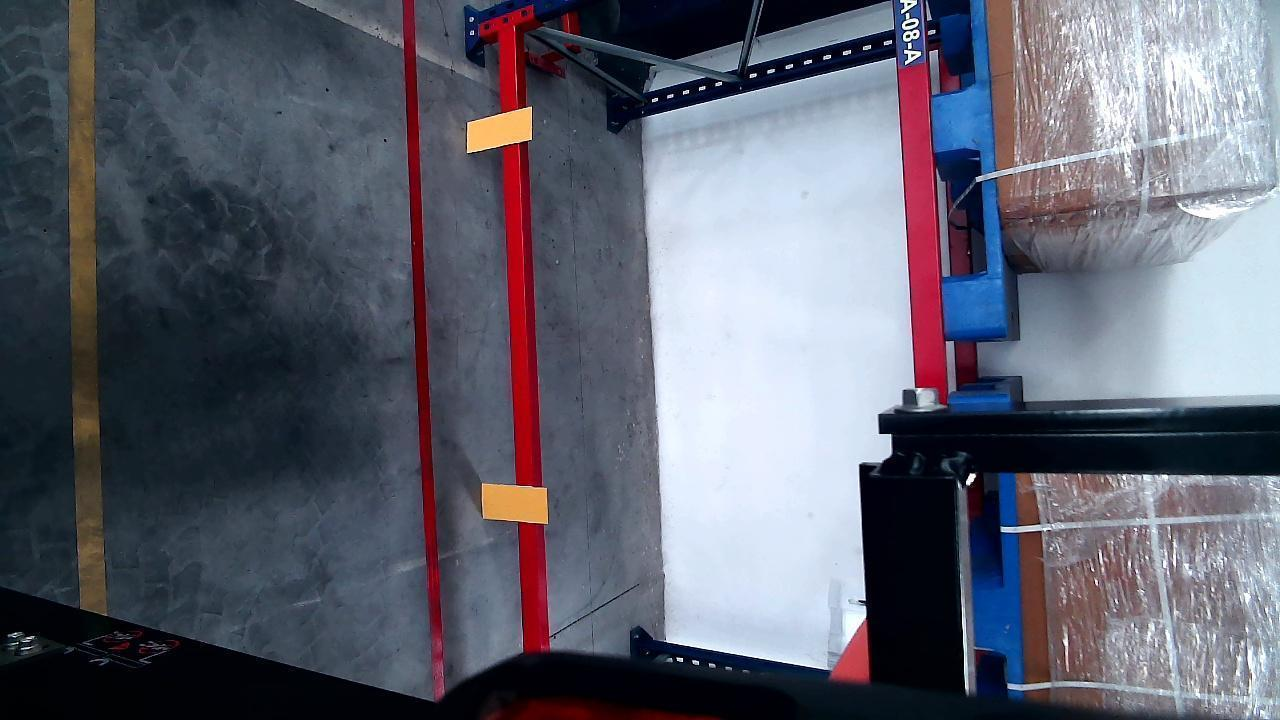red_line: (404, 5, 441, 696)
yellow_line: (67, 0, 102, 614)
